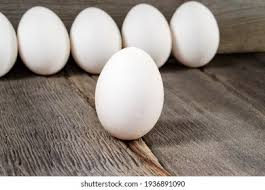eggs: (94, 48, 169, 141), (16, 5, 67, 72), (74, 7, 119, 77), (174, 7, 220, 67), (127, 3, 168, 68)
